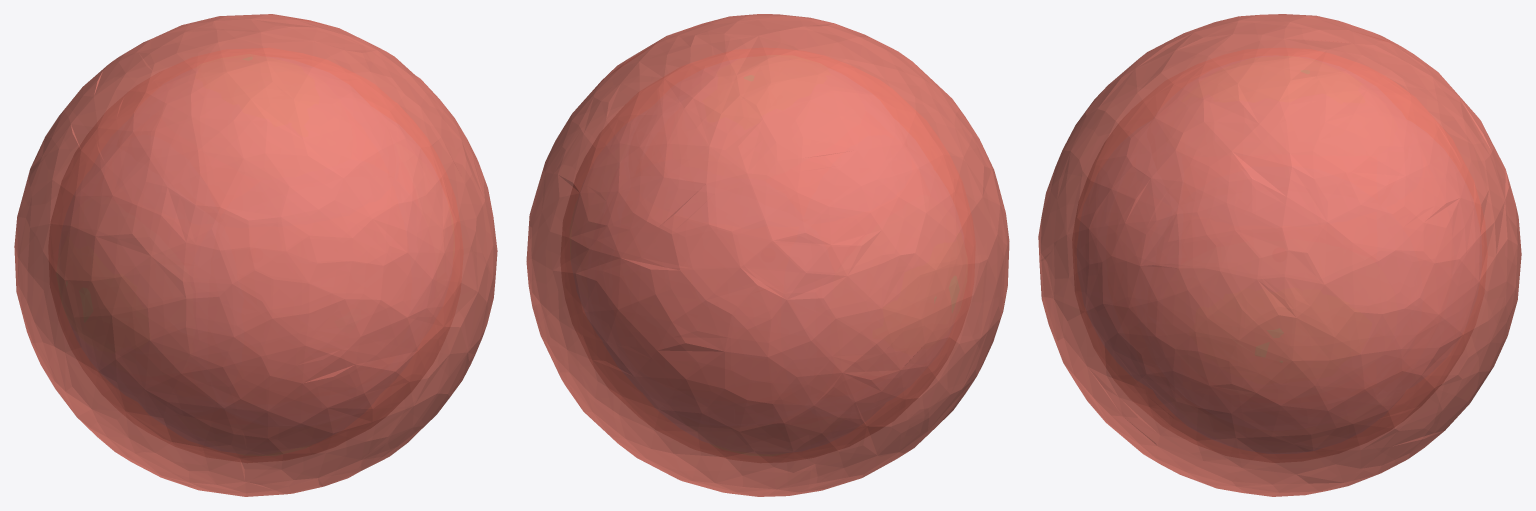
File: orbital.glb
The picture shows the model from 3 angles, left to right: view 1: azimuth 30°, elevation 25°; view 2: azimuth 150°, elevation 25°; view 3: azimuth 270°, elevation 25°; orthographic projection.
Parts seen in each view (by area): view 1: Ac_n7_s_ml0_node, Ac_n6_s_ml0_node; view 2: Ac_n7_s_ml0_node, Ac_n6_s_ml0_node; view 3: Ac_n7_s_ml0_node, Ac_n6_s_ml0_node.
Boxes of the visible parts, box(x1,y1,x2,y2) form: Ac_n7_s_ml0_node: box(14, 14, 497, 496); Ac_n6_s_ml0_node: box(48, 48, 463, 462); Ac_n7_s_ml0_node: box(526, 14, 1009, 496); Ac_n6_s_ml0_node: box(560, 48, 975, 462); Ac_n7_s_ml0_node: box(1038, 14, 1521, 496); Ac_n6_s_ml0_node: box(1072, 48, 1487, 462).
Bounding box in the file's own units: 3.55 × 3.56 × 3.55.
